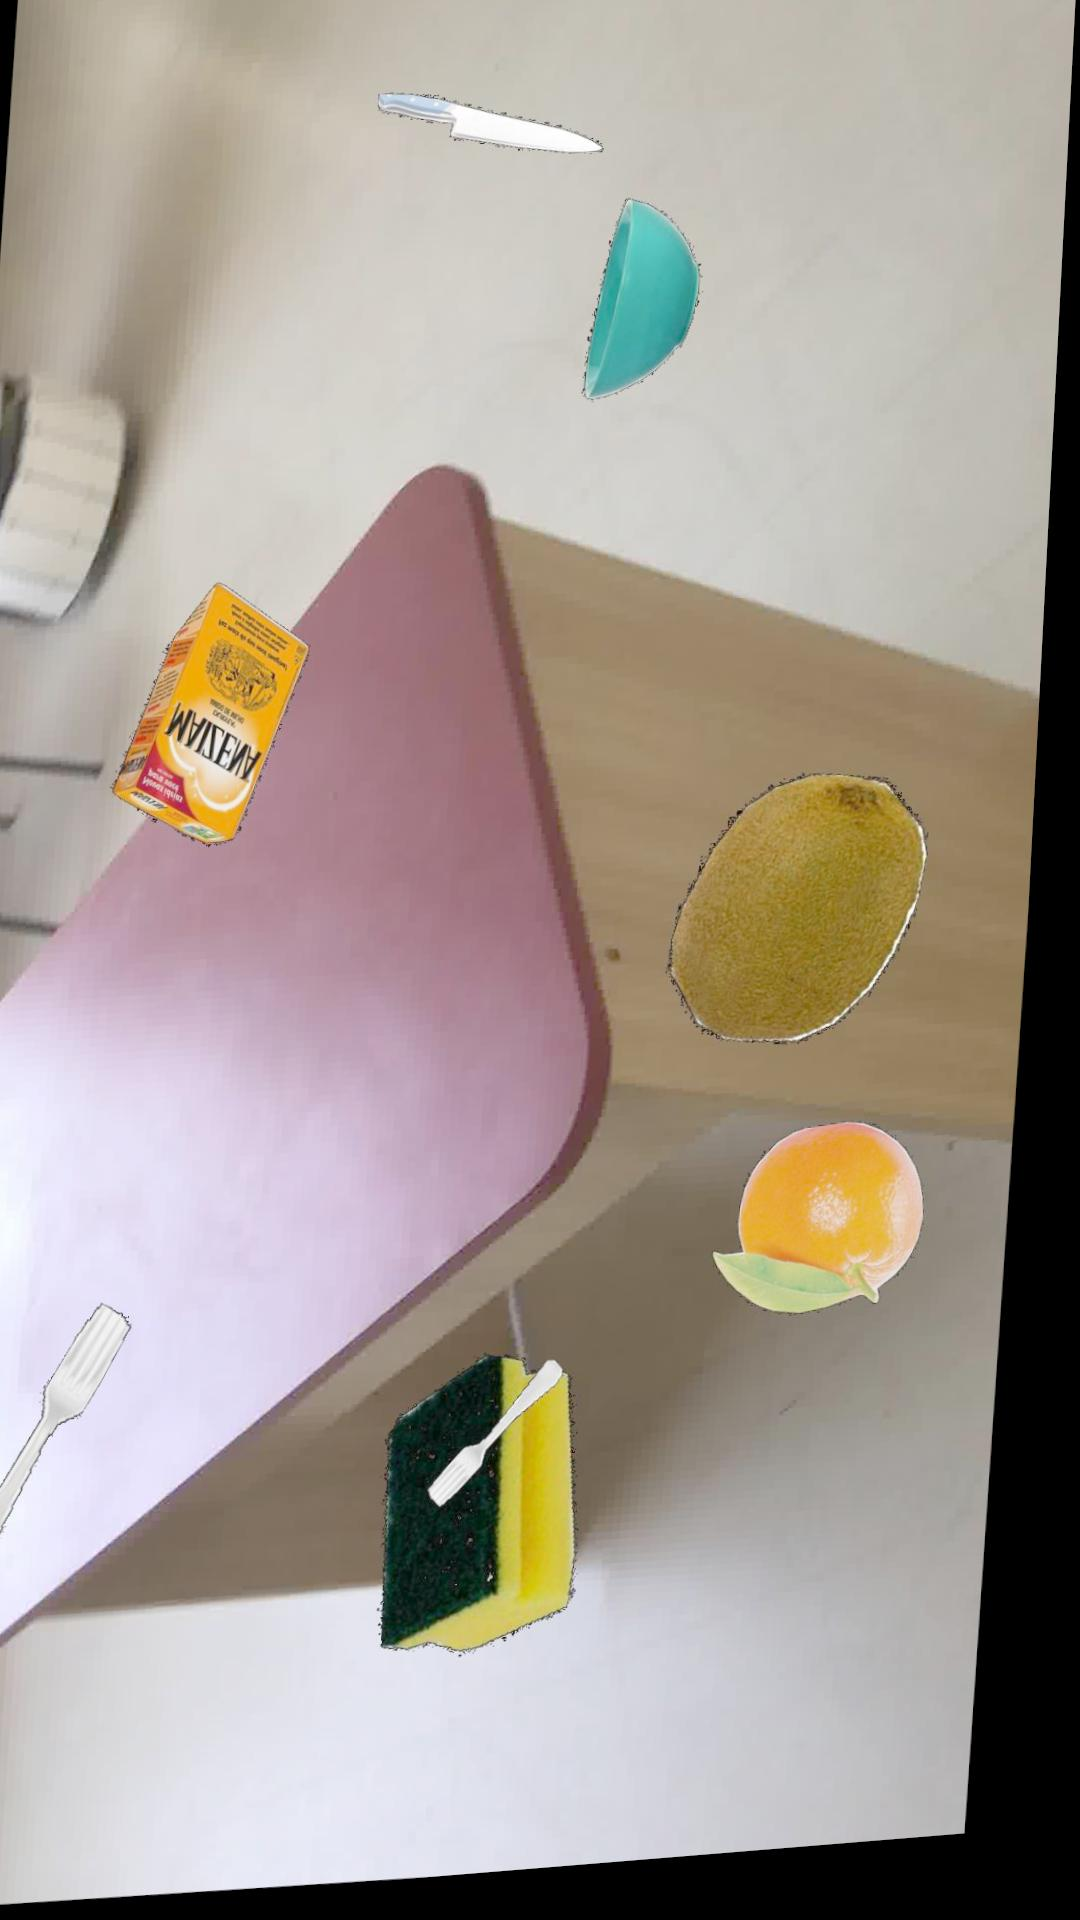bowl: (588, 210, 704, 411)
fork: (0, 1307, 146, 1571), (444, 1371, 579, 1516)
kiwi: (679, 789, 938, 1059)
knife: (380, 102, 605, 165)
orange: (727, 1138, 938, 1329)
sponge: (398, 1365, 596, 1662)
